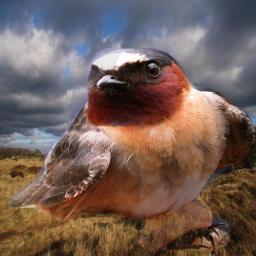Swallow: (9, 48, 253, 251)
